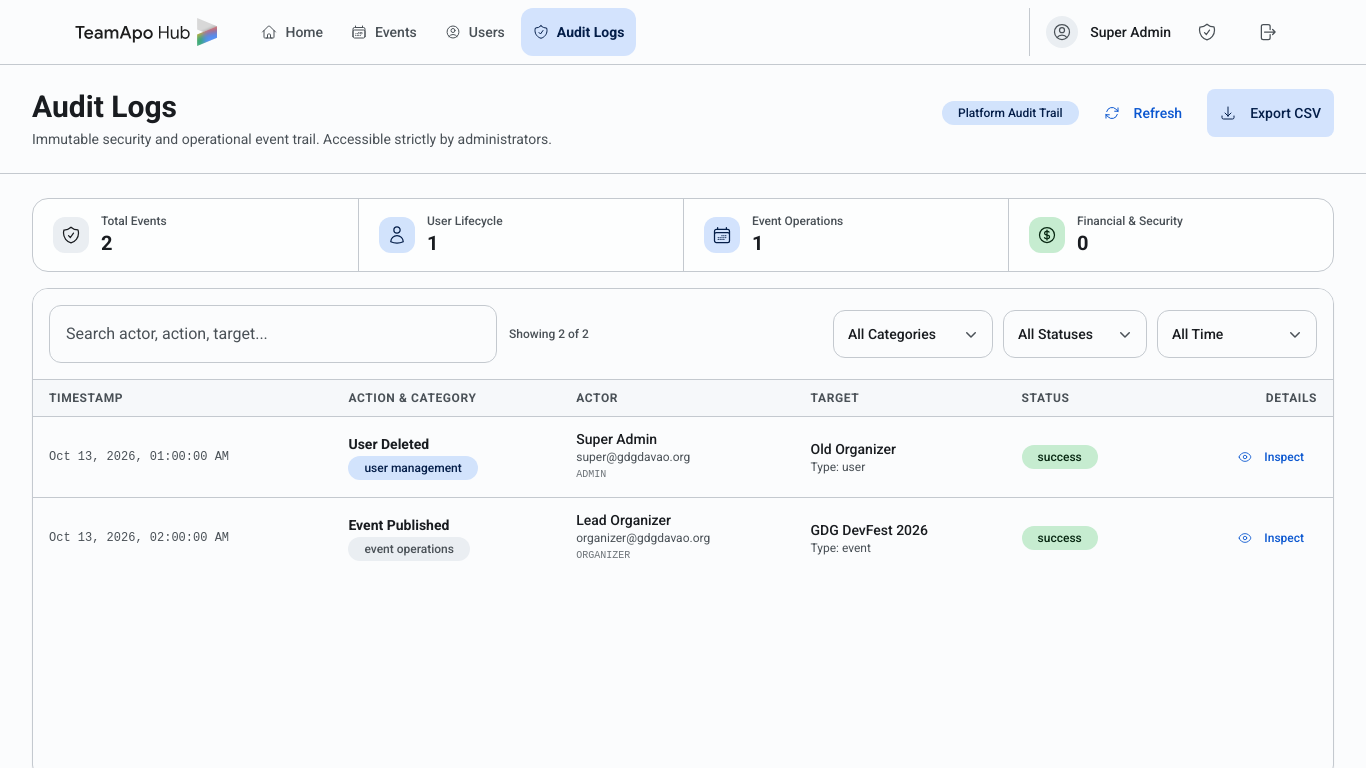
Scenario: AuditLogsPage DOM Component Tests › filters table rows when search input changes
Expected: the text "User Deleted" is shown, [348,434,429,454]
Step 1. Type "DevFest" into the field with placeholder "Search actor, action, target..." → (273, 334), box [49,305,497,363]
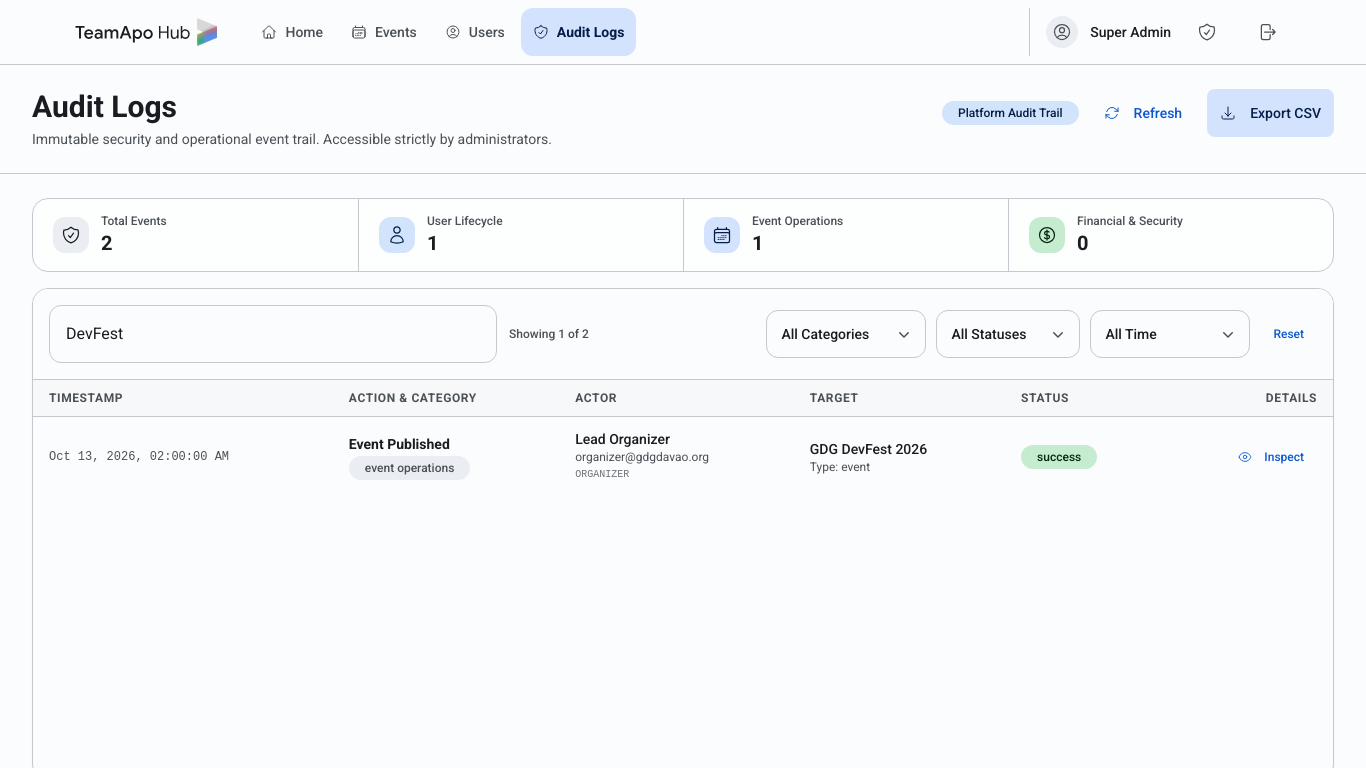
Expected: the text "Event Published" is shown, [349,434,450,454]
Expected: the text "User Deleted" is gone
